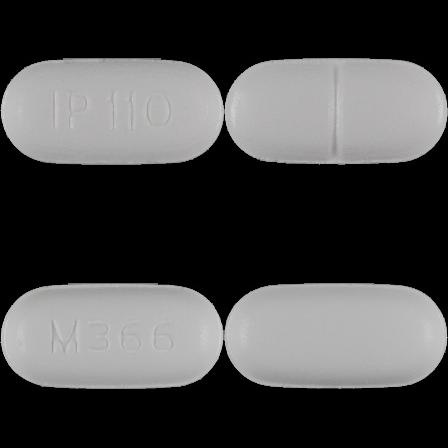63629-5434: (0, 0, 224, 224)
